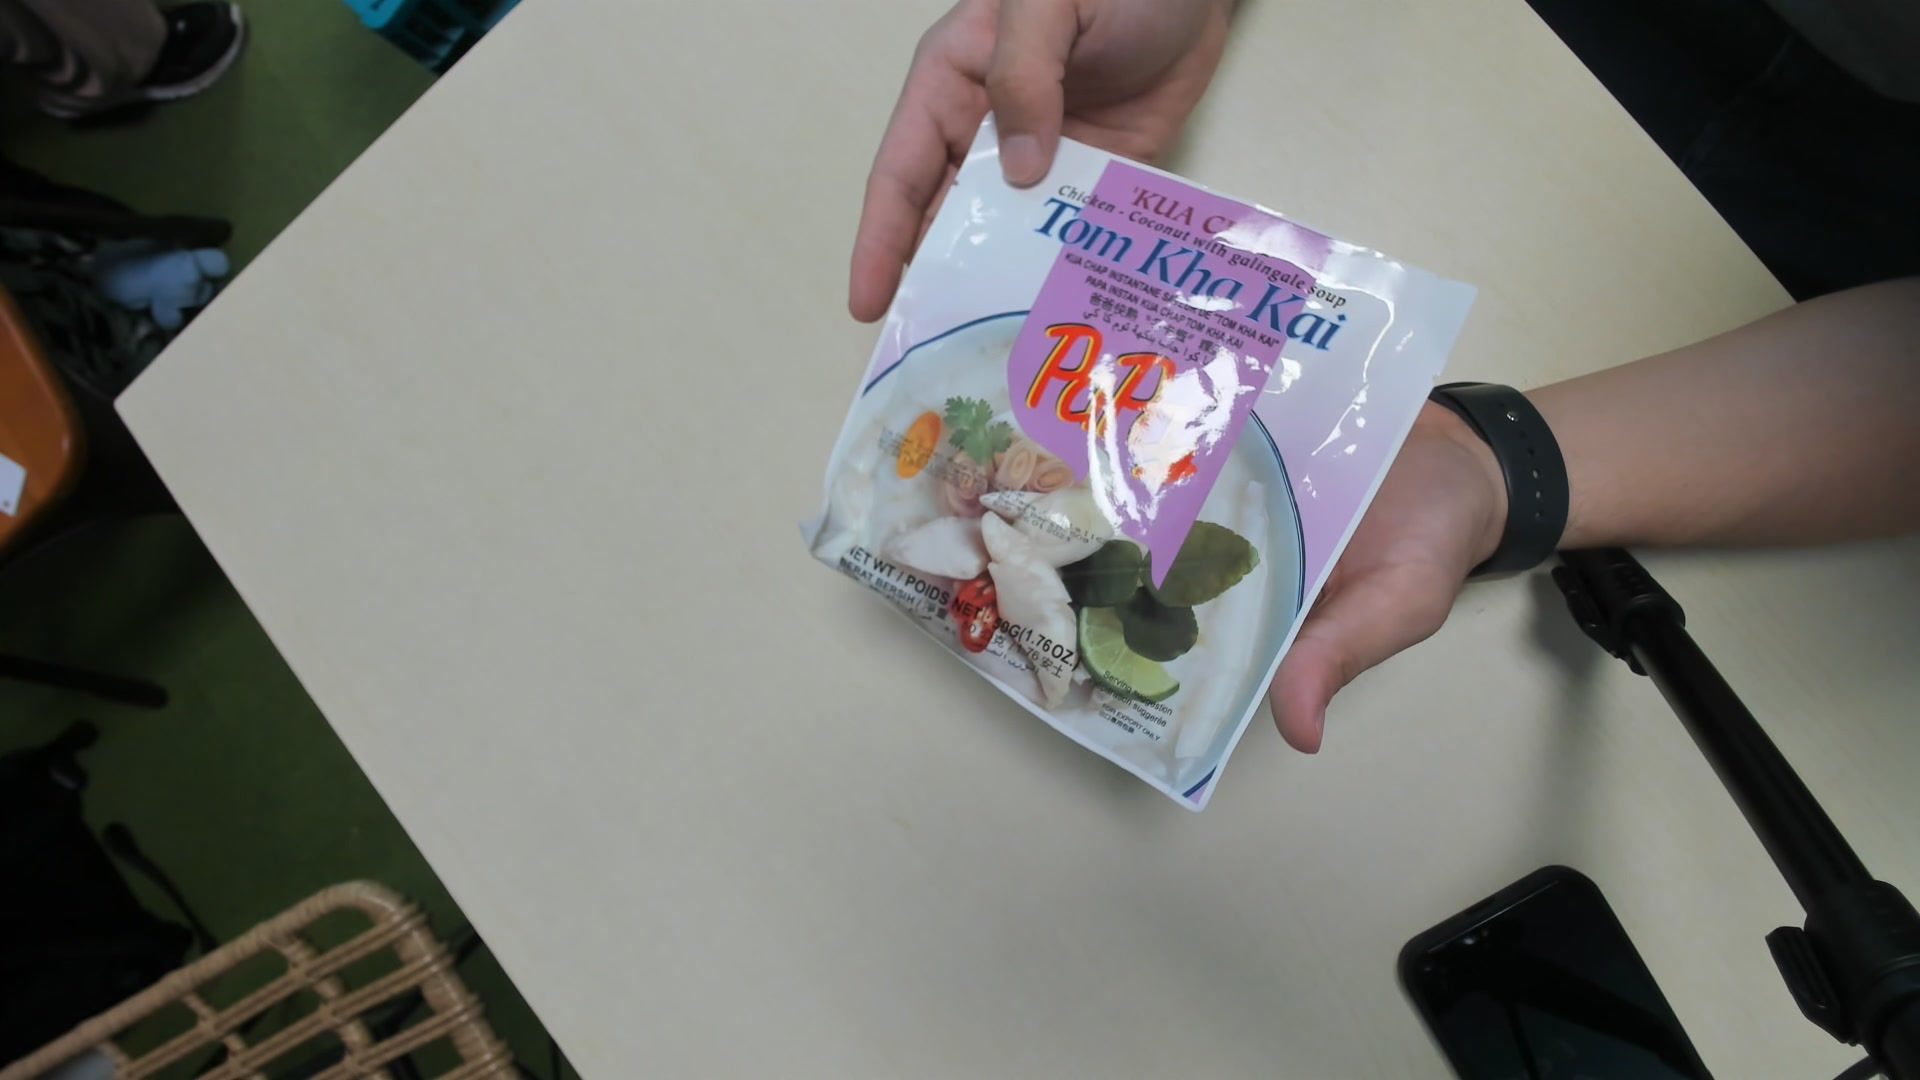OtherSauceDressing_0-99g_NonHalal_NonHealthy: (796, 117, 1477, 812)
